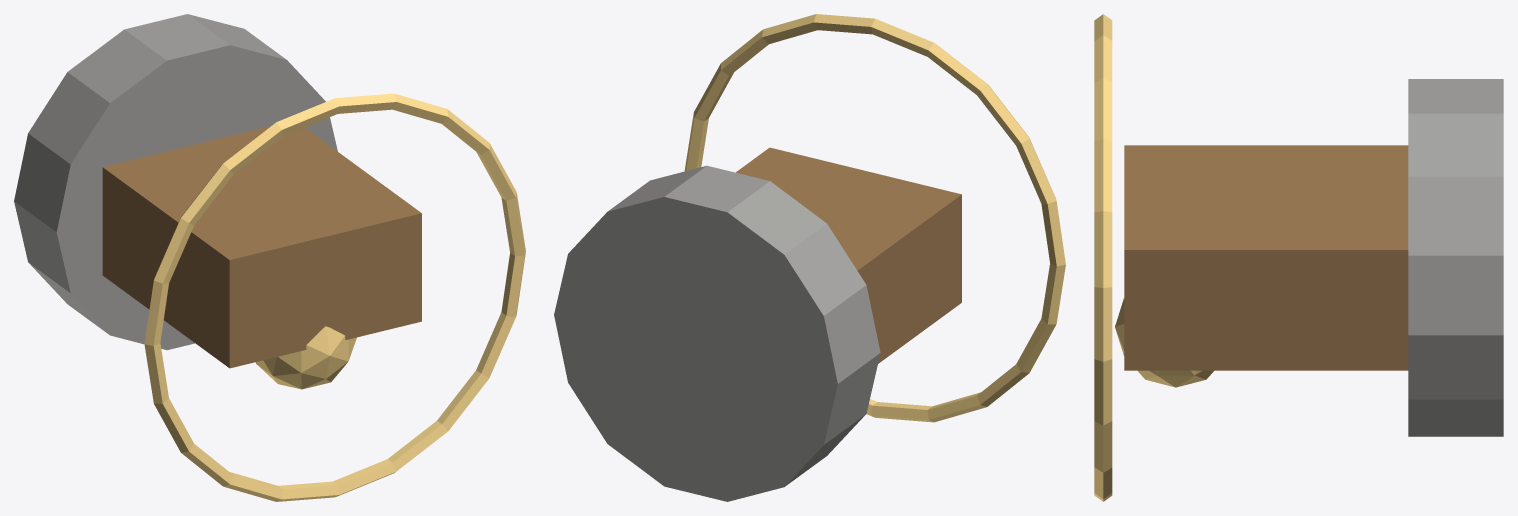
File: 01_vendor_counter_terminal.glb
The picture shows the model from 3 angles, left to right: view 1: azimuth 30°, elevation 25°; view 2: azimuth 150°, elevation 25°; view 3: azimuth 270°, elevation 25°; orthographic projection. The views are drawn at different scales.
Visible parts, largest first — view 1: control_or_relic_body, interaction_base, objective_ring, activation_core; view 2: interaction_base, control_or_relic_body, objective_ring; view 3: control_or_relic_body, interaction_base, objective_ring, activation_core.
Boxes of the visible parts, x1=… form: control_or_relic_body: x1=102, y1=126, x2=421, y2=368; interaction_base: x1=14, y1=14, x2=337, y2=350; objective_ring: x1=144, y1=93, x2=525, y2=501; activation_core: x1=255, y1=326, x2=356, y2=389; interaction_base: x1=554, y1=165, x2=880, y2=501; control_or_relic_body: x1=736, y1=147, x2=961, y2=363; objective_ring: x1=684, y1=14, x2=1065, y2=422; control_or_relic_body: x1=1124, y1=145, x2=1408, y2=370; interaction_base: x1=1408, y1=79, x2=1503, y2=436; objective_ring: x1=1094, y1=14, x2=1112, y2=501; activation_core: x1=1115, y1=298, x2=1213, y2=387.
Size of the model in its own units: 1.29 by 1.29 by 1.07.
